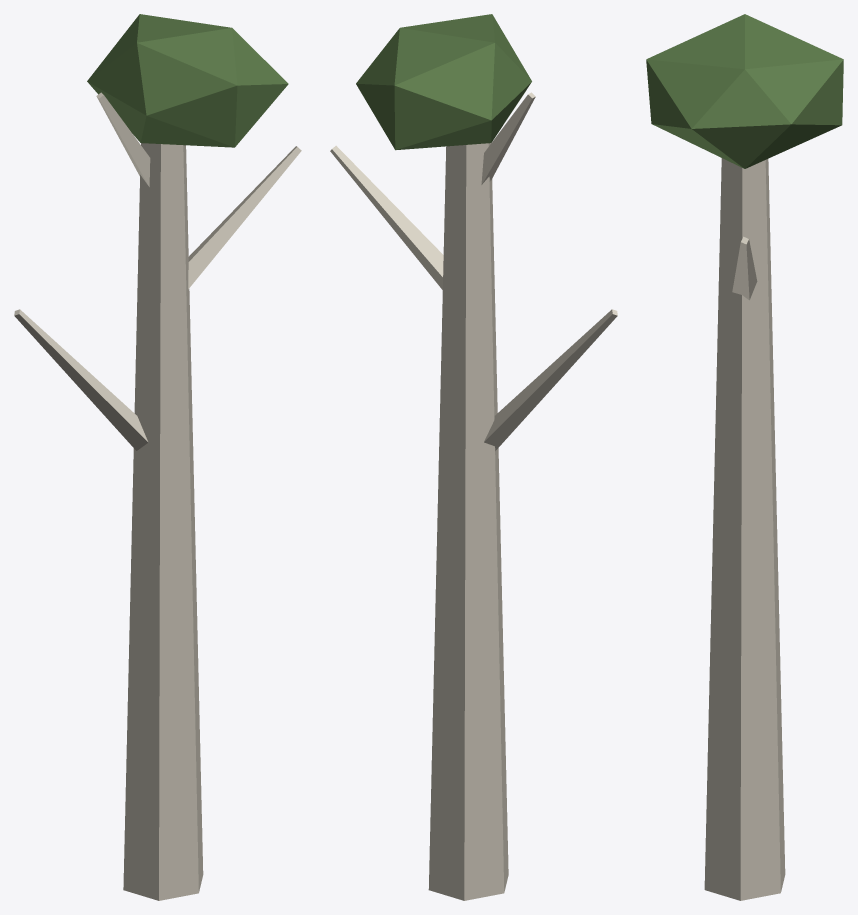
File: tree_birch.glb
3 renders of one model, left to right at view 1: azimuth 30°, elevation 25°; view 2: azimuth 150°, elevation 25°; view 3: azimuth 270°, elevation 25°, orthographic.
Parts seen in each view (by area): view 1: tree_birch_dead; view 2: tree_birch_dead; view 3: tree_birch_dead.
Boxes of the visible parts, <box> form: tree_birch_dead: <box>14,14,301,900</box>; tree_birch_dead: <box>330,14,617,900</box>; tree_birch_dead: <box>646,14,843,900</box>.
Size of the model in its own units: 1.14 by 3.2 by 0.6699.
